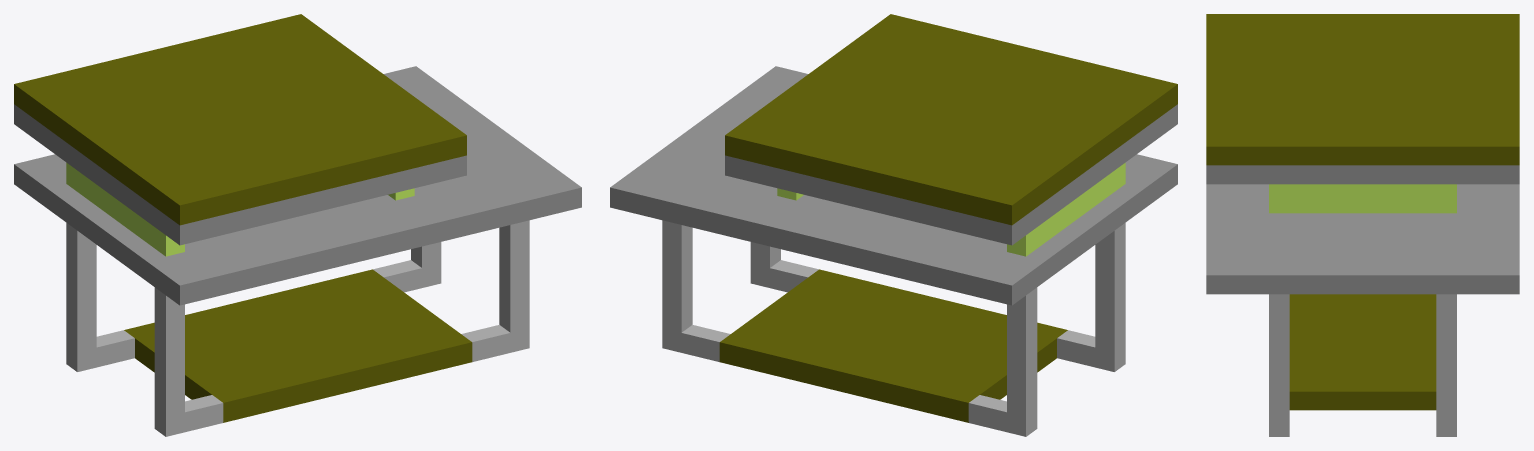
File: Conference Coffee Table.obj
3 views of the same model, side by side, from view 1: azimuth 30°, elevation 25°; view 2: azimuth 150°, elevation 25°; view 3: azimuth 270°, elevation 25° (orthographic). The views are drawn at different scales.
Size of the model in its own units: 21 by 13 by 15.
1 material, 1 textured.
